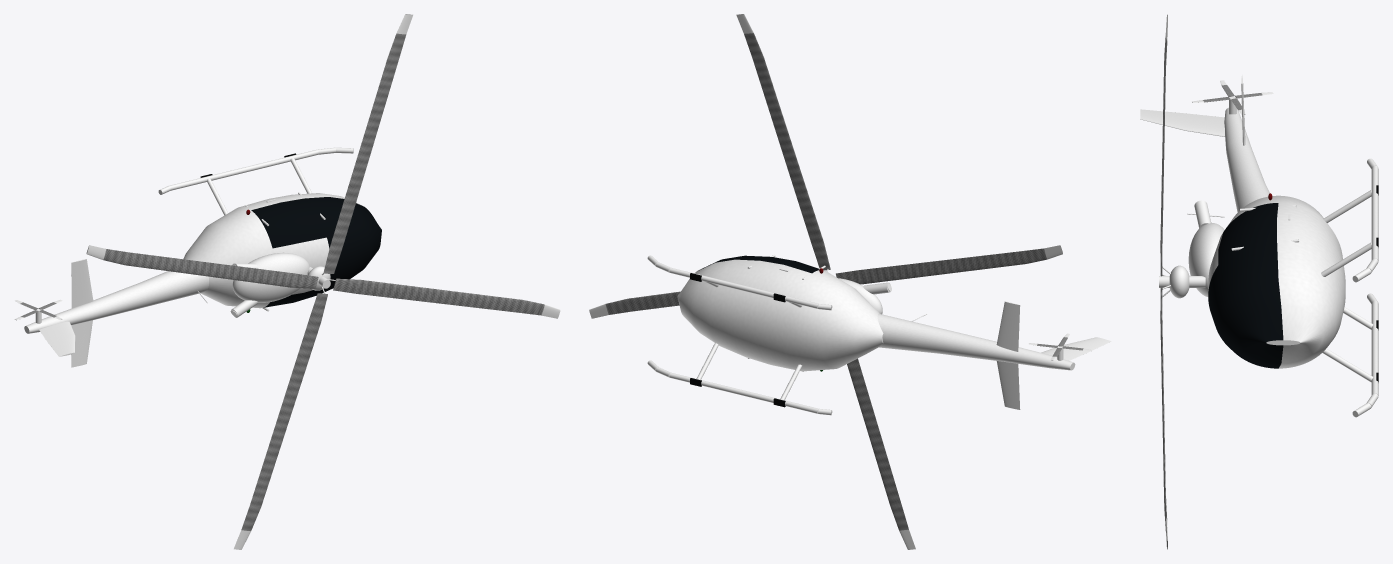
File: helicopter.obj
The picture shows the model from 3 angles, left to right: view 1: azimuth 30°, elevation 25°; view 2: azimuth 150°, elevation 25°; view 3: azimuth 270°, elevation 25°; orthographic projection. The views are drawn at different scales.
Visible parts, largest first — view 1: RotorCarbon, AirframeWhite, TintedGlazing, RescueOrange, DarkMetal, SafetyYellow; view 2: RescueOrange, RotorCarbon, AirframeWhite, DarkMetal, SafetyYellow; view 3: RescueOrange, TintedGlazing, AirframeWhite, DarkMetal, BrushedMetal, RotorCarbon.
Boxes of the visible parts, x1=… form: RotorCarbon: x1=15, y1=14, x2=544, y2=530; AirframeWhite: x1=24, y1=192, x2=363, y2=367; TintedGlazing: x1=251, y1=197, x2=381, y2=307; RescueOrange: x1=39, y1=193, x2=340, y2=356; DarkMetal: x1=35, y1=147, x2=353, y2=323; SafetyYellow: x1=15, y1=14, x2=560, y2=549; RescueOrange: x1=677, y1=265, x2=1111, y2=371; RotorCarbon: x1=605, y1=14, x2=1083, y2=530; AirframeWhite: x1=694, y1=255, x2=1075, y2=409; DarkMetal: x1=647, y1=255, x2=1063, y2=415; SafetyYellow: x1=589, y1=14, x2=1091, y2=549; RescueOrange: x1=1140, y1=109, x2=1345, y2=367; TintedGlazing: x1=1208, y1=203, x2=1283, y2=368; AirframeWhite: x1=1208, y1=75, x2=1300, y2=368; DarkMetal: x1=1169, y1=96, x2=1378, y2=417; BrushedMetal: x1=1159, y1=190, x2=1373, y2=382; RotorCarbon: x1=1160, y1=14, x2=1262, y2=549.
Bounding box in the file's own units: 9.51 × 8.6 × 2.91.
11 materials, 7 textured.
